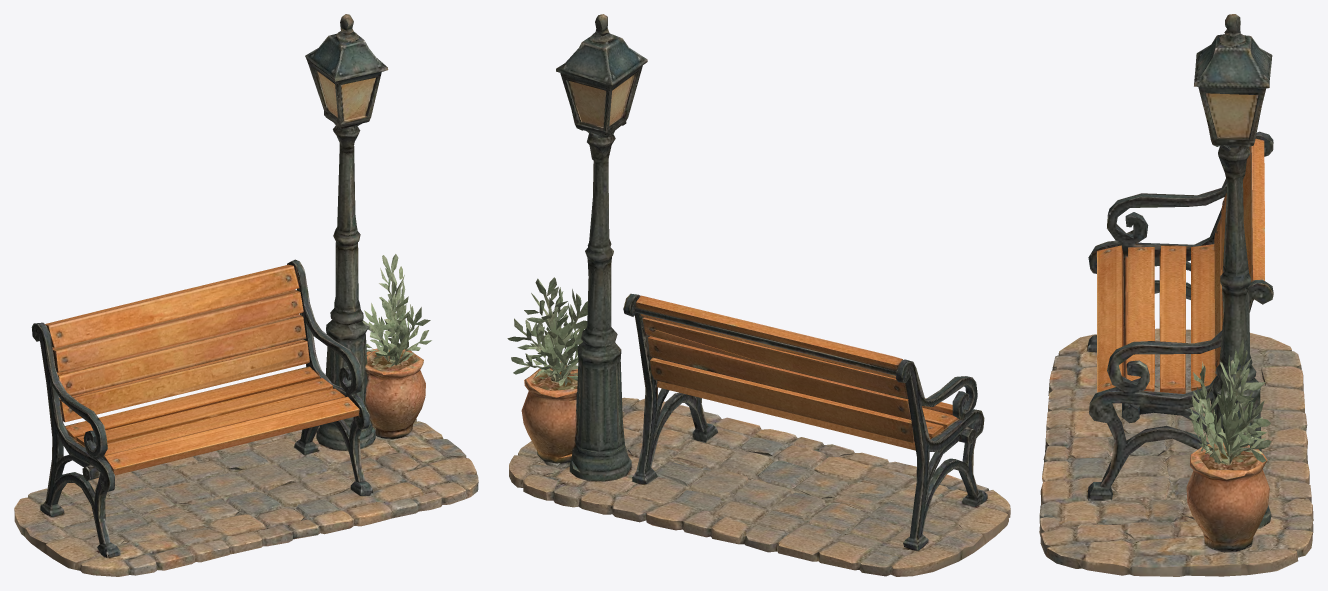
Rendered from m_tb_bench.glb.
3 renders of one model, left to right at view 1: azimuth 30°, elevation 25°; view 2: azimuth 150°, elevation 25°; view 3: azimuth 270°, elevation 25°, orthographic. The views are drawn at different scales.
Bounding box in the file's own units: 0.998 × 1.01 × 0.4851.
1 material, 1 textured.
